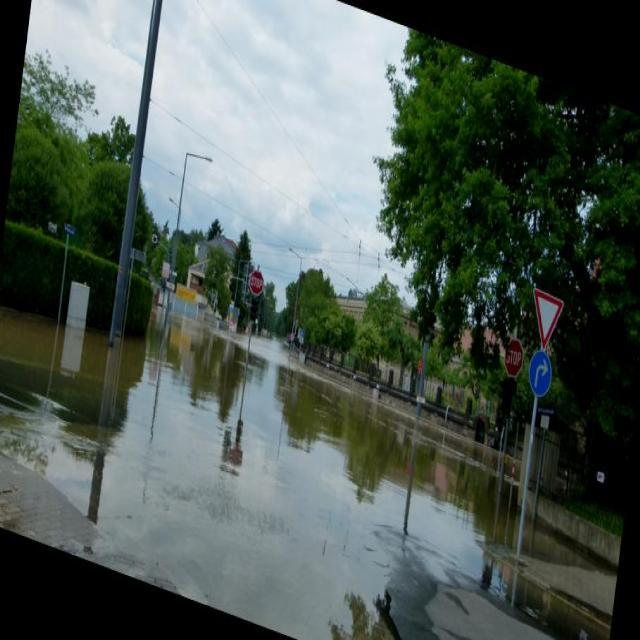flood: (0, 238, 501, 639)
